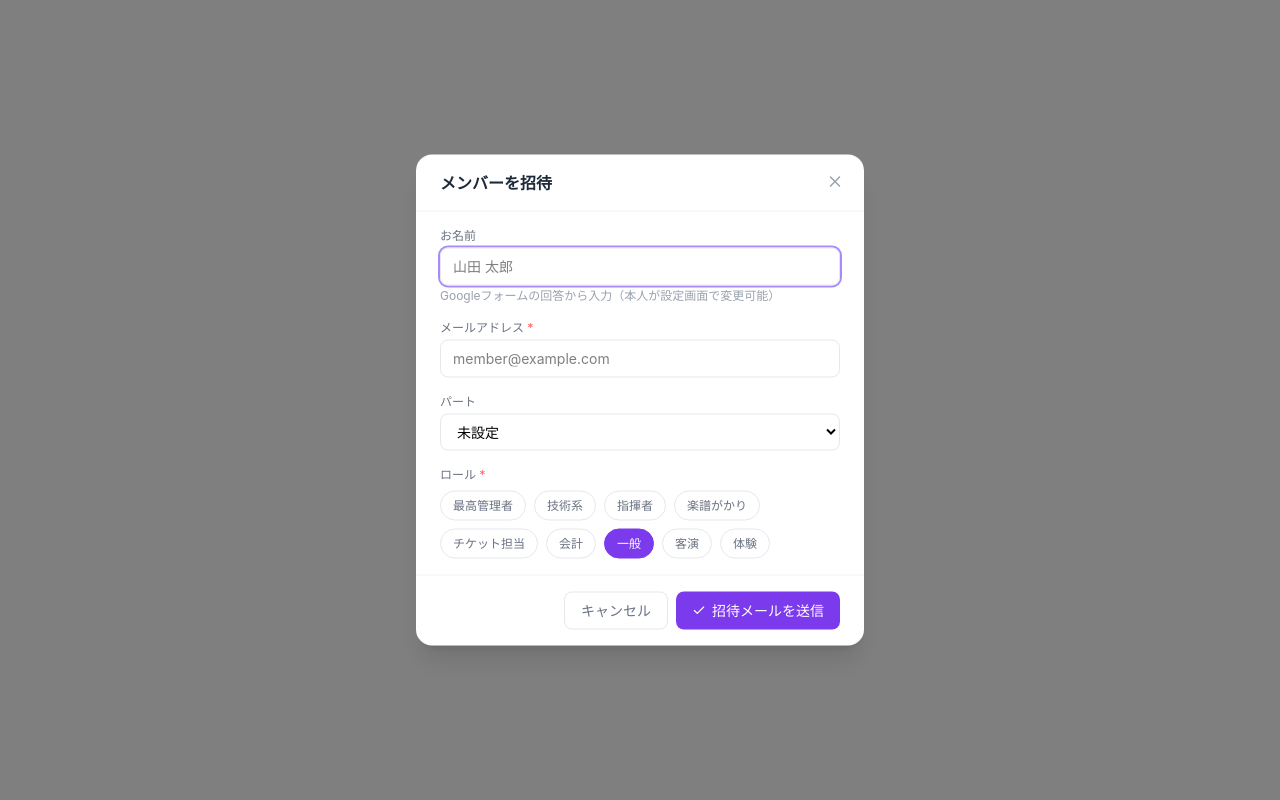
InviteModal › お名前・パート未入力でも、メール・ロールがあれば送信できる
The width and height of the screenshot is (1280, 800).
Type "new@example.com" into the field labelled "メールアドレス *" at (640, 358), box 440,340 -> 840,378
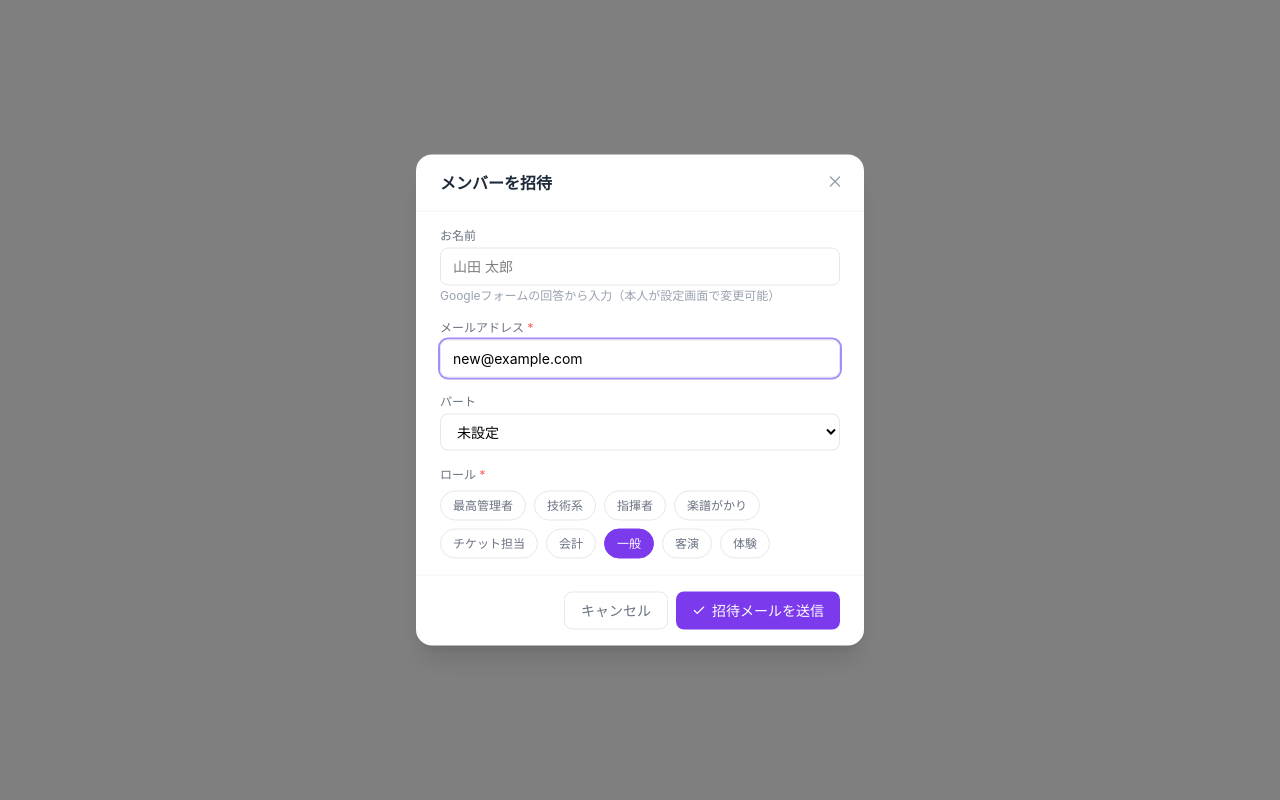
Click the button "招待メールを送信" at (758, 610), box 676,592 -> 840,630
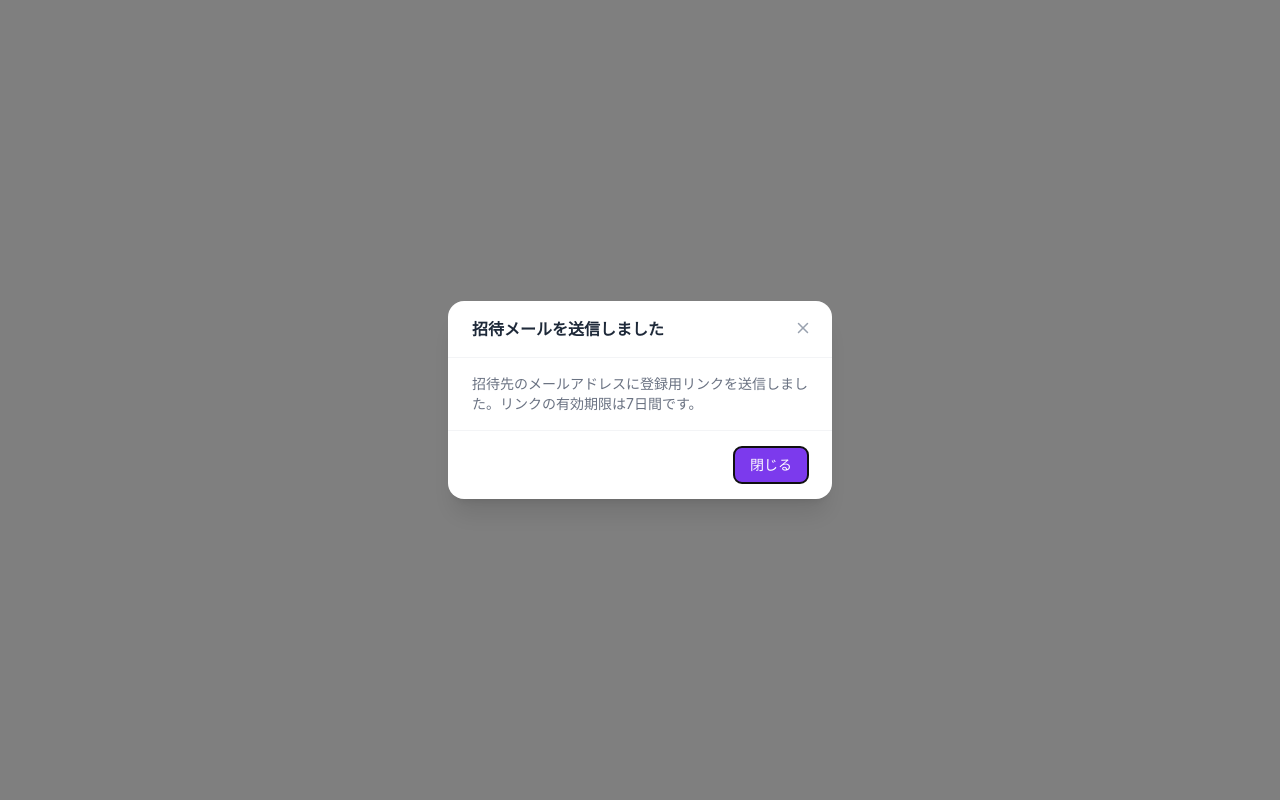
Result: the dialog "招待メールを送信しました" is shown at 448,301 -> 832,499
Result: the message shows "リンクの有効期限は7日間です" at 472,375 -> 808,412
